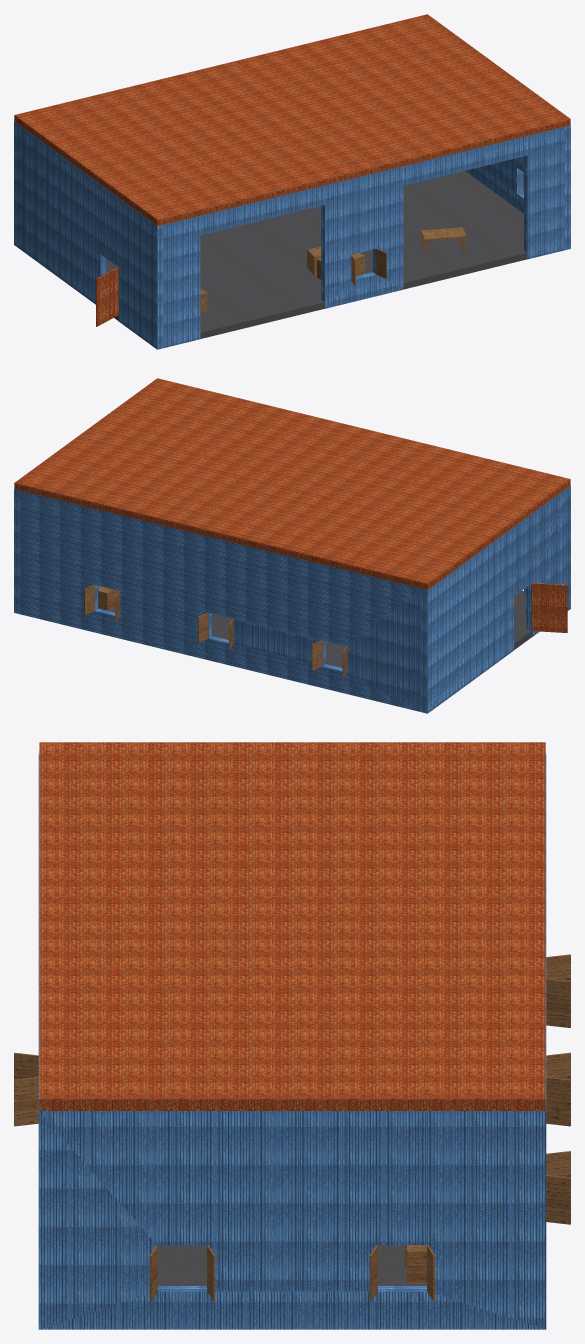
The model's file is warehouse_metal.glb.
3 views of the same model, one above another, from view 1: azimuth 30°, elevation 25°; view 2: azimuth 150°, elevation 25°; view 3: azimuth 270°, elevation 25° (orthographic). The views are drawn at different scales.
Parts seen in each view (by area): view 1: WarehouseMetal; view 2: WarehouseMetal; view 3: WarehouseMetal.
Part boxes in pixels (x1,y1,x2,y2): WarehouseMetal: (14,14,570,349); WarehouseMetal: (14,378,570,713); WarehouseMetal: (14,742,570,1329).
Bounding box in the file's own units: 21.99 × 6 × 13.17.
4 materials, 4 textured.
